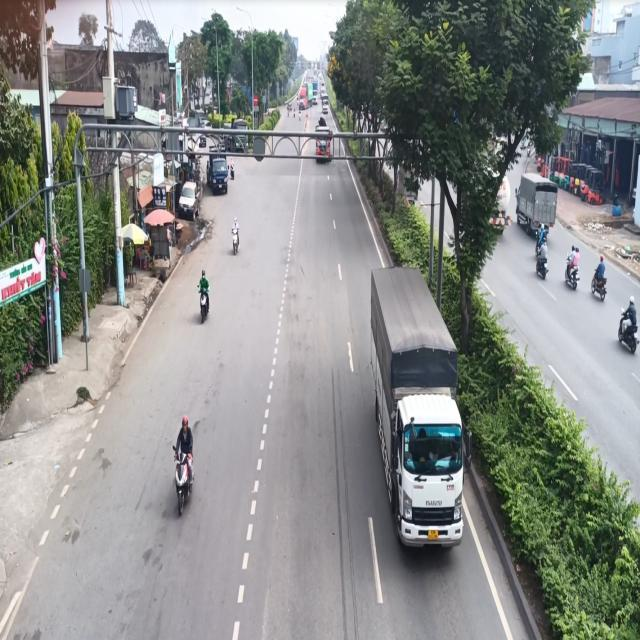motorcycle: (172, 446, 194, 515), (617, 310, 639, 353), (564, 257, 579, 289), (590, 273, 606, 300), (197, 288, 209, 323), (230, 223, 239, 253)
person: (172, 415, 193, 483), (619, 295, 637, 338), (565, 245, 580, 281), (196, 269, 209, 306)
truck: (368, 264, 465, 550)
